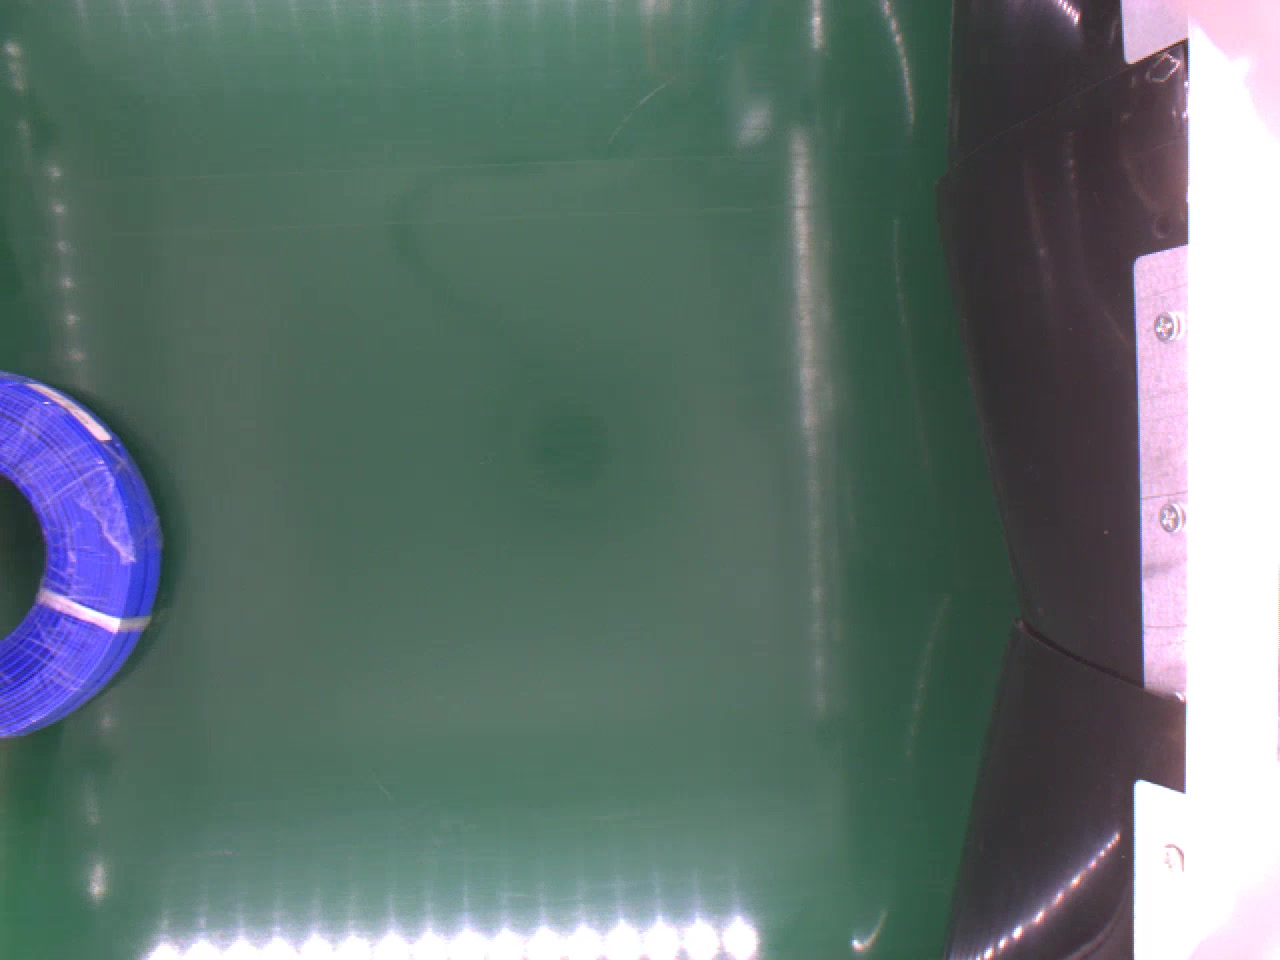blue: (0, 366, 168, 745)
